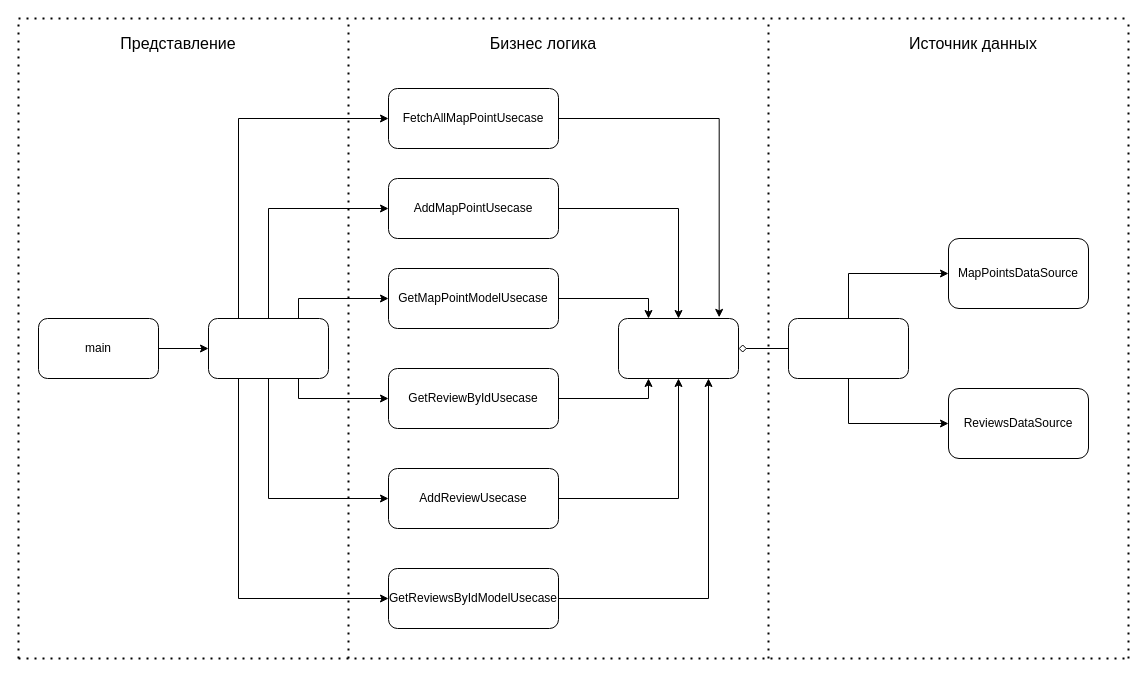
Some shapes in this 1147 by 677 pixel diagram are drawn without their labels. The shapes that lost their labels are listed below. From the top down, each one's centre as x and y in pixels, then its label:
point 268,348: MainViewModel
point 678,348: <Interface> Repository
point 848,348: <Interface> RepositoryImpl
